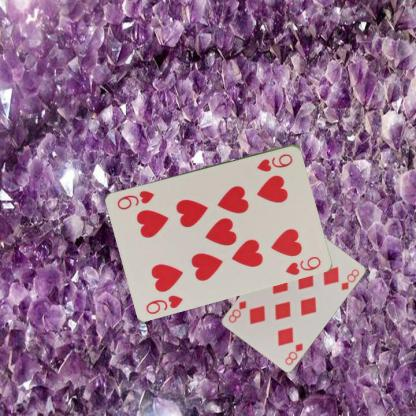8d: (282, 340, 304, 366)
9h: (144, 292, 184, 315), (254, 151, 294, 173)
